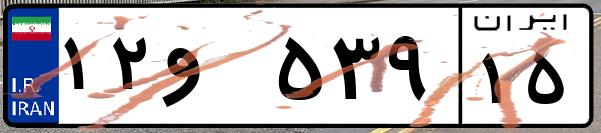1: (57, 26, 110, 100), (475, 38, 525, 113)
2: (110, 28, 158, 98)
3: (330, 28, 385, 110)
5: (270, 28, 330, 110), (525, 38, 570, 115)
9: (385, 28, 445, 110)
و: (158, 20, 270, 120)
